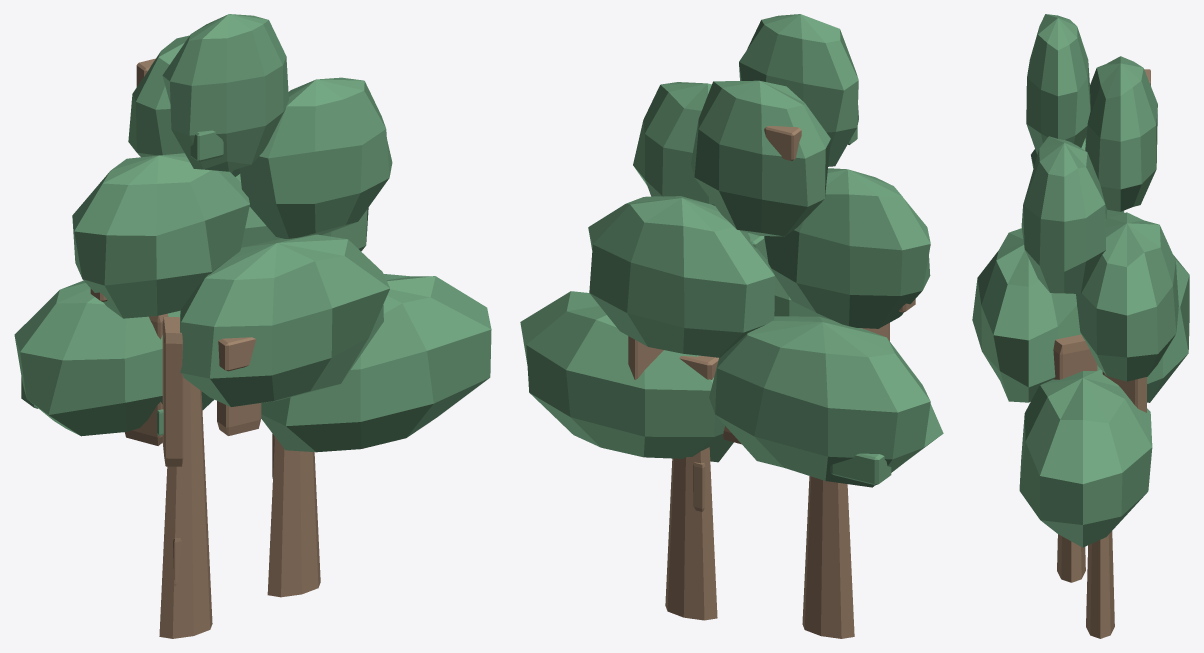
Rendered from b08_arborvitae_screen_pair.glb.
3 renders of one model, left to right at view 1: azimuth 30°, elevation 25°; view 2: azimuth 150°, elevation 25°; view 3: azimuth 270°, elevation 25°, orthographic. The views are drawn at different scales.
Visible parts, largest first — view 1: b08_arborvitae_screen_pair; view 2: b08_arborvitae_screen_pair; view 3: b08_arborvitae_screen_pair.
Boxes of the visible parts, x1,y1,x2,y2 form: b08_arborvitae_screen_pair: (14,14,491,638); b08_arborvitae_screen_pair: (520,14,943,638); b08_arborvitae_screen_pair: (972,14,1189,638).
Size of the model in its own units: 2.66 by 3.52 by 1.22.
